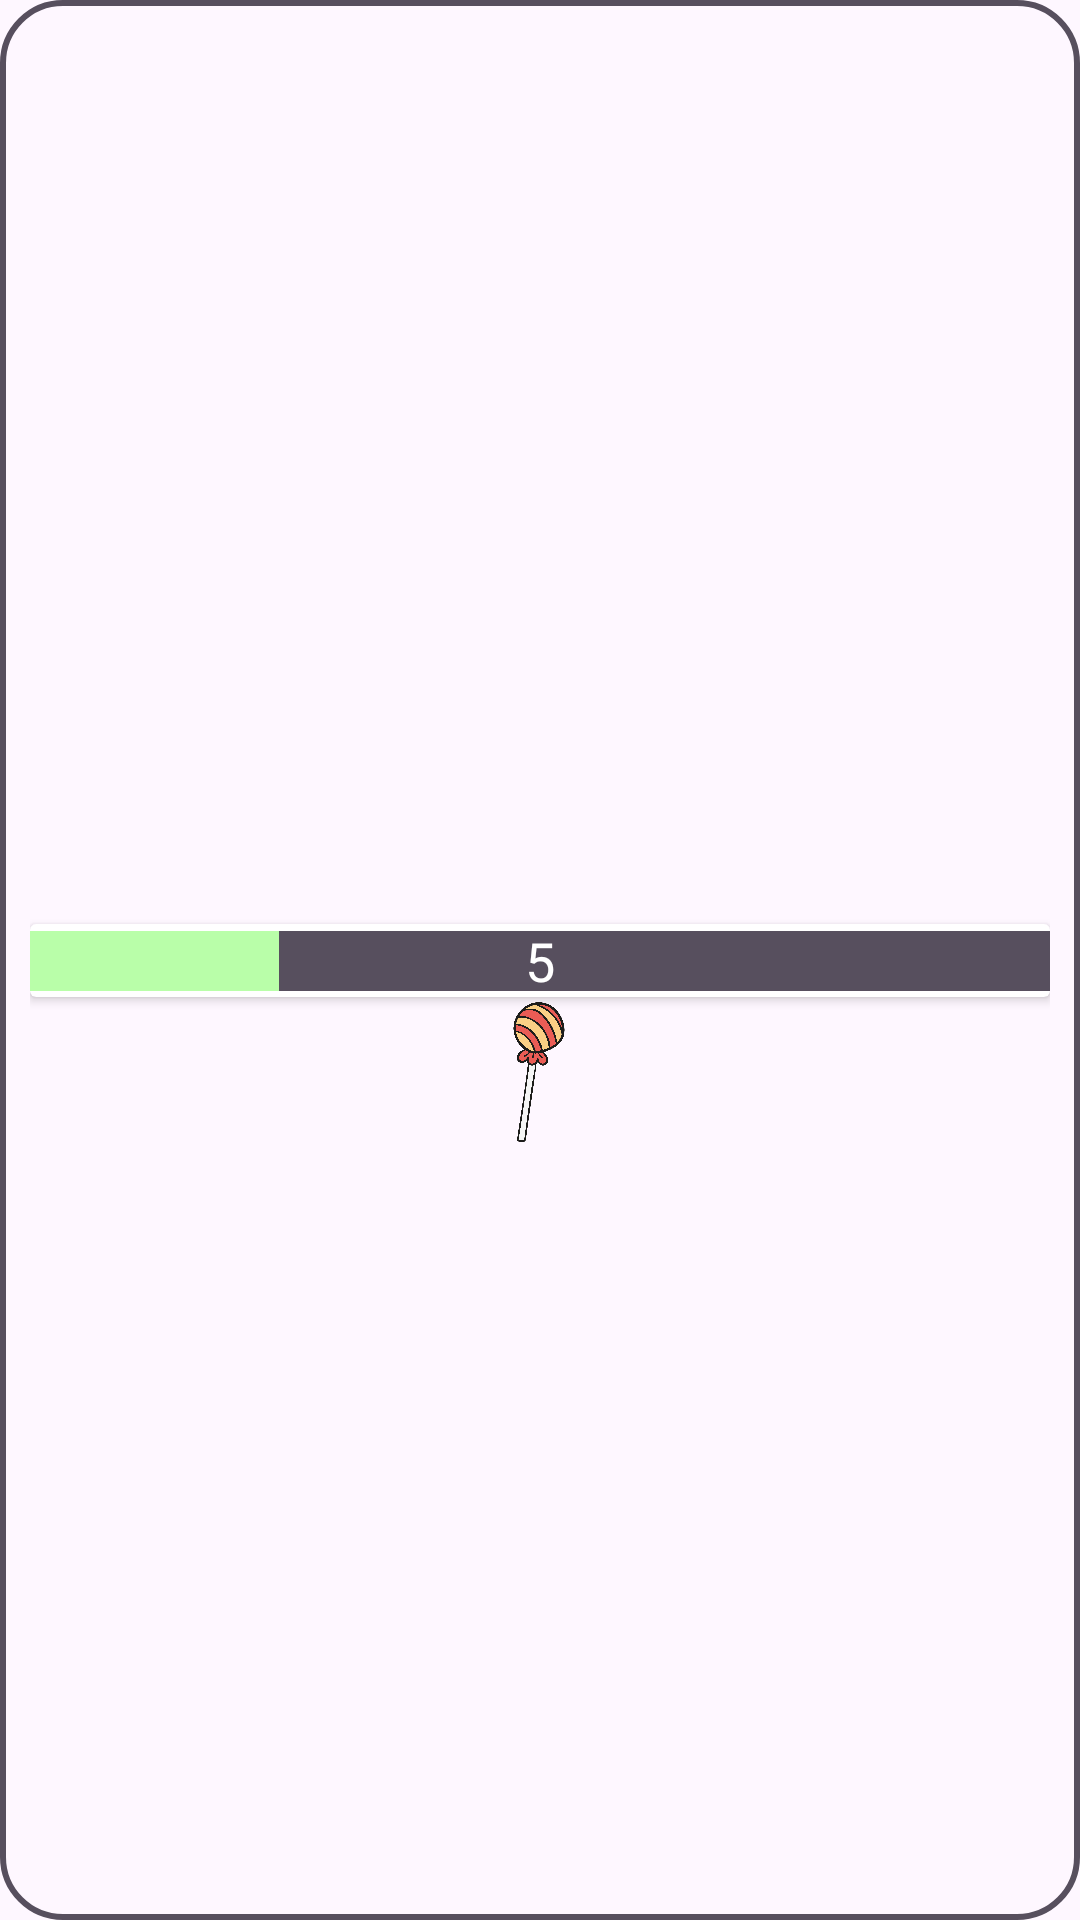

Icons on this 1080 × 1920 Android screen, each with its box as (x1,y1,x2,y2):
lolipop: (513,1002,565,1142)
